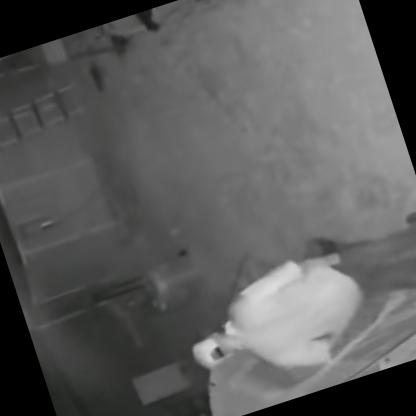Human Body: (164, 195, 415, 411)
